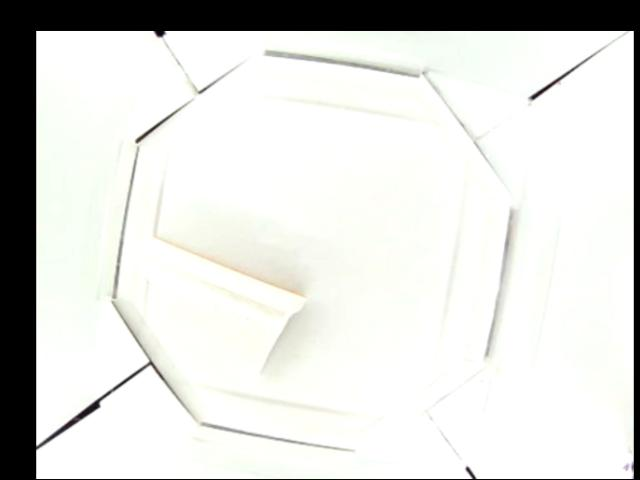China: (134, 237, 308, 377)
